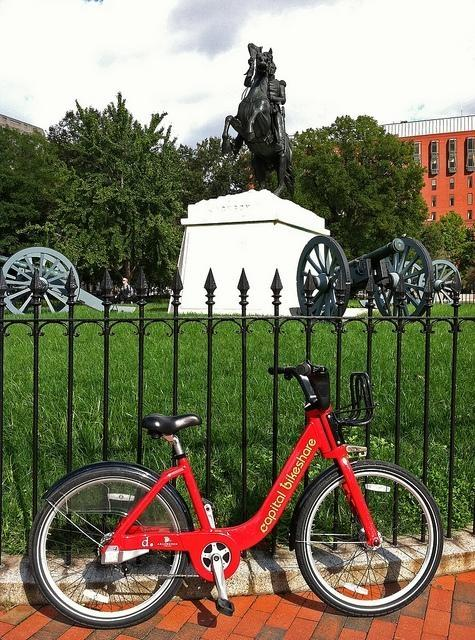bicycle: (32, 361, 444, 628)
